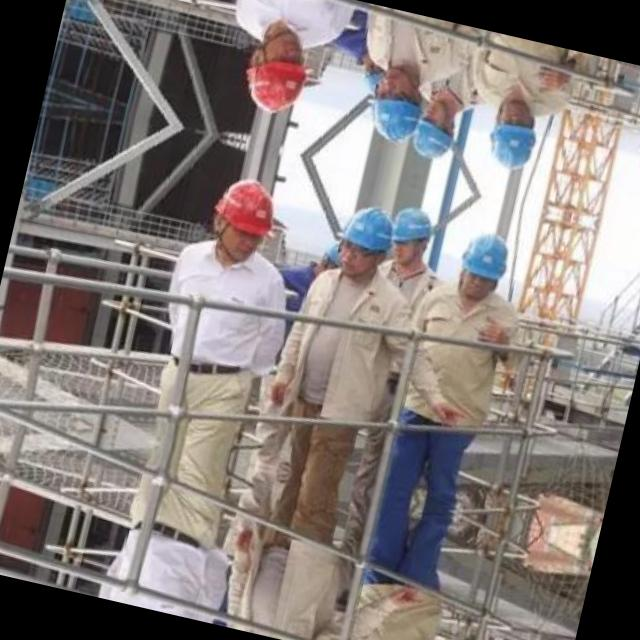helmet: (234, 24, 317, 124), (202, 165, 284, 265), (472, 90, 550, 180), (372, 70, 451, 158), (343, 196, 422, 283), (443, 220, 520, 308), (381, 196, 438, 266), (404, 98, 461, 168)
